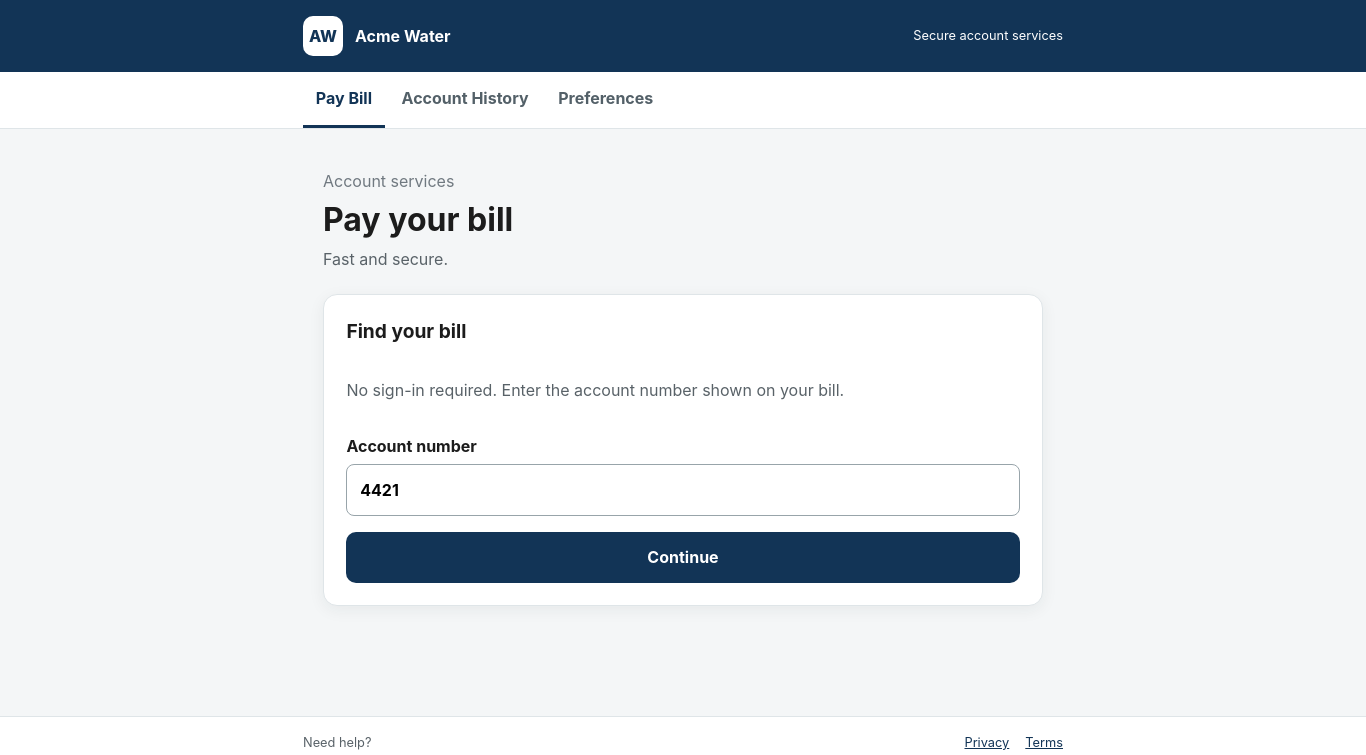
Scenario: multi-invoice cart + batch checkout › shows no payer fee when the biller absorbs it (total === amount)
Click the button with test id "lookup-submit". click: (683, 557)
box: [346, 532, 1020, 583]
(page scrolled)
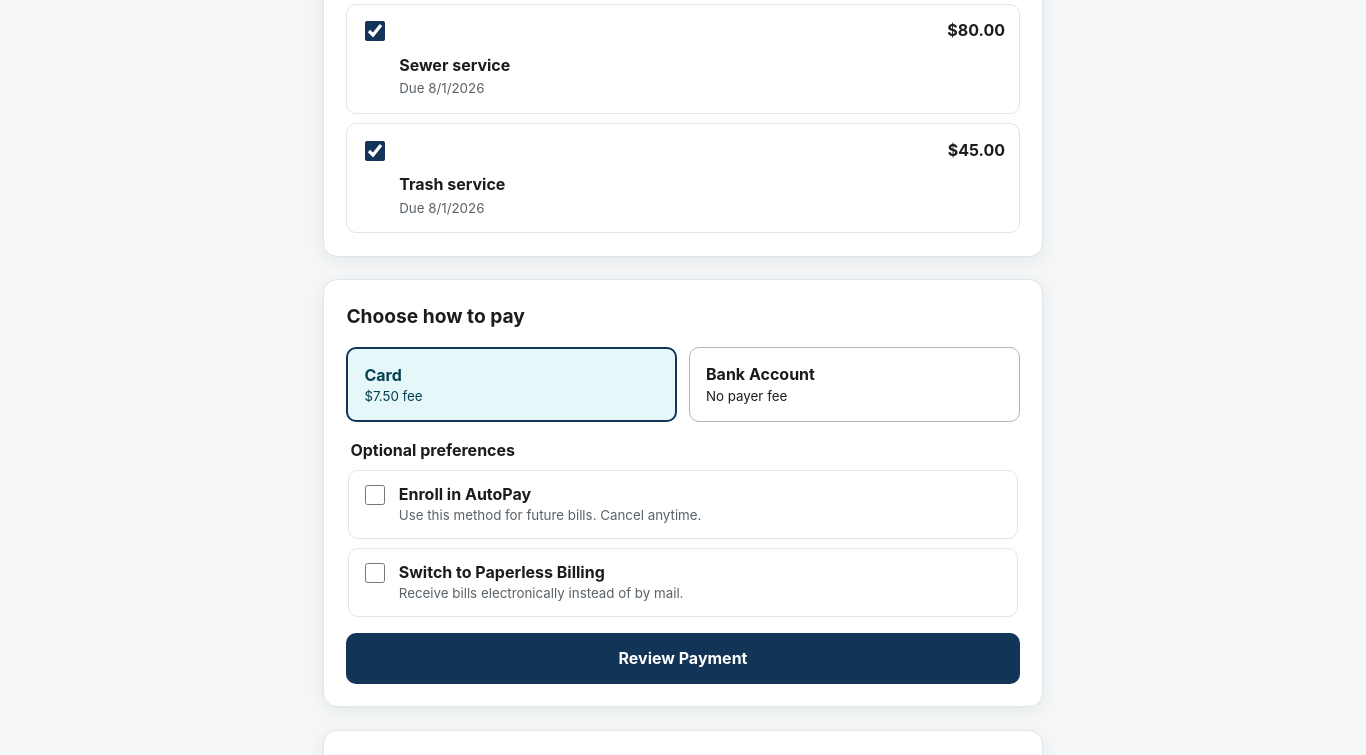
Click the button with test id "method-ach". click: (760, 374)
box: [689, 347, 1020, 422]
(page scrolled)
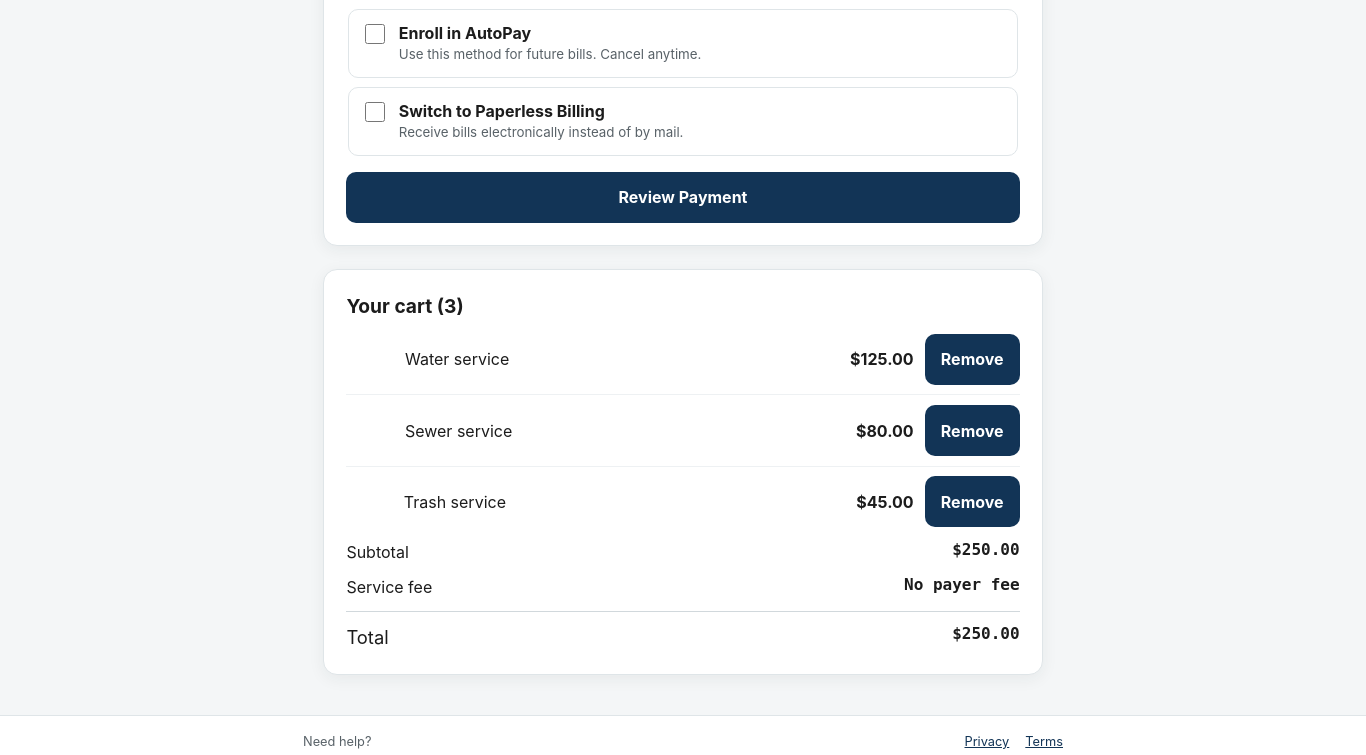
Check: the text with test id "cart-fee" reads "No payer fee", box [904, 576, 1020, 594]
Check: the text with test id "cart-total" reads "$250.00", box [952, 624, 1020, 643]
